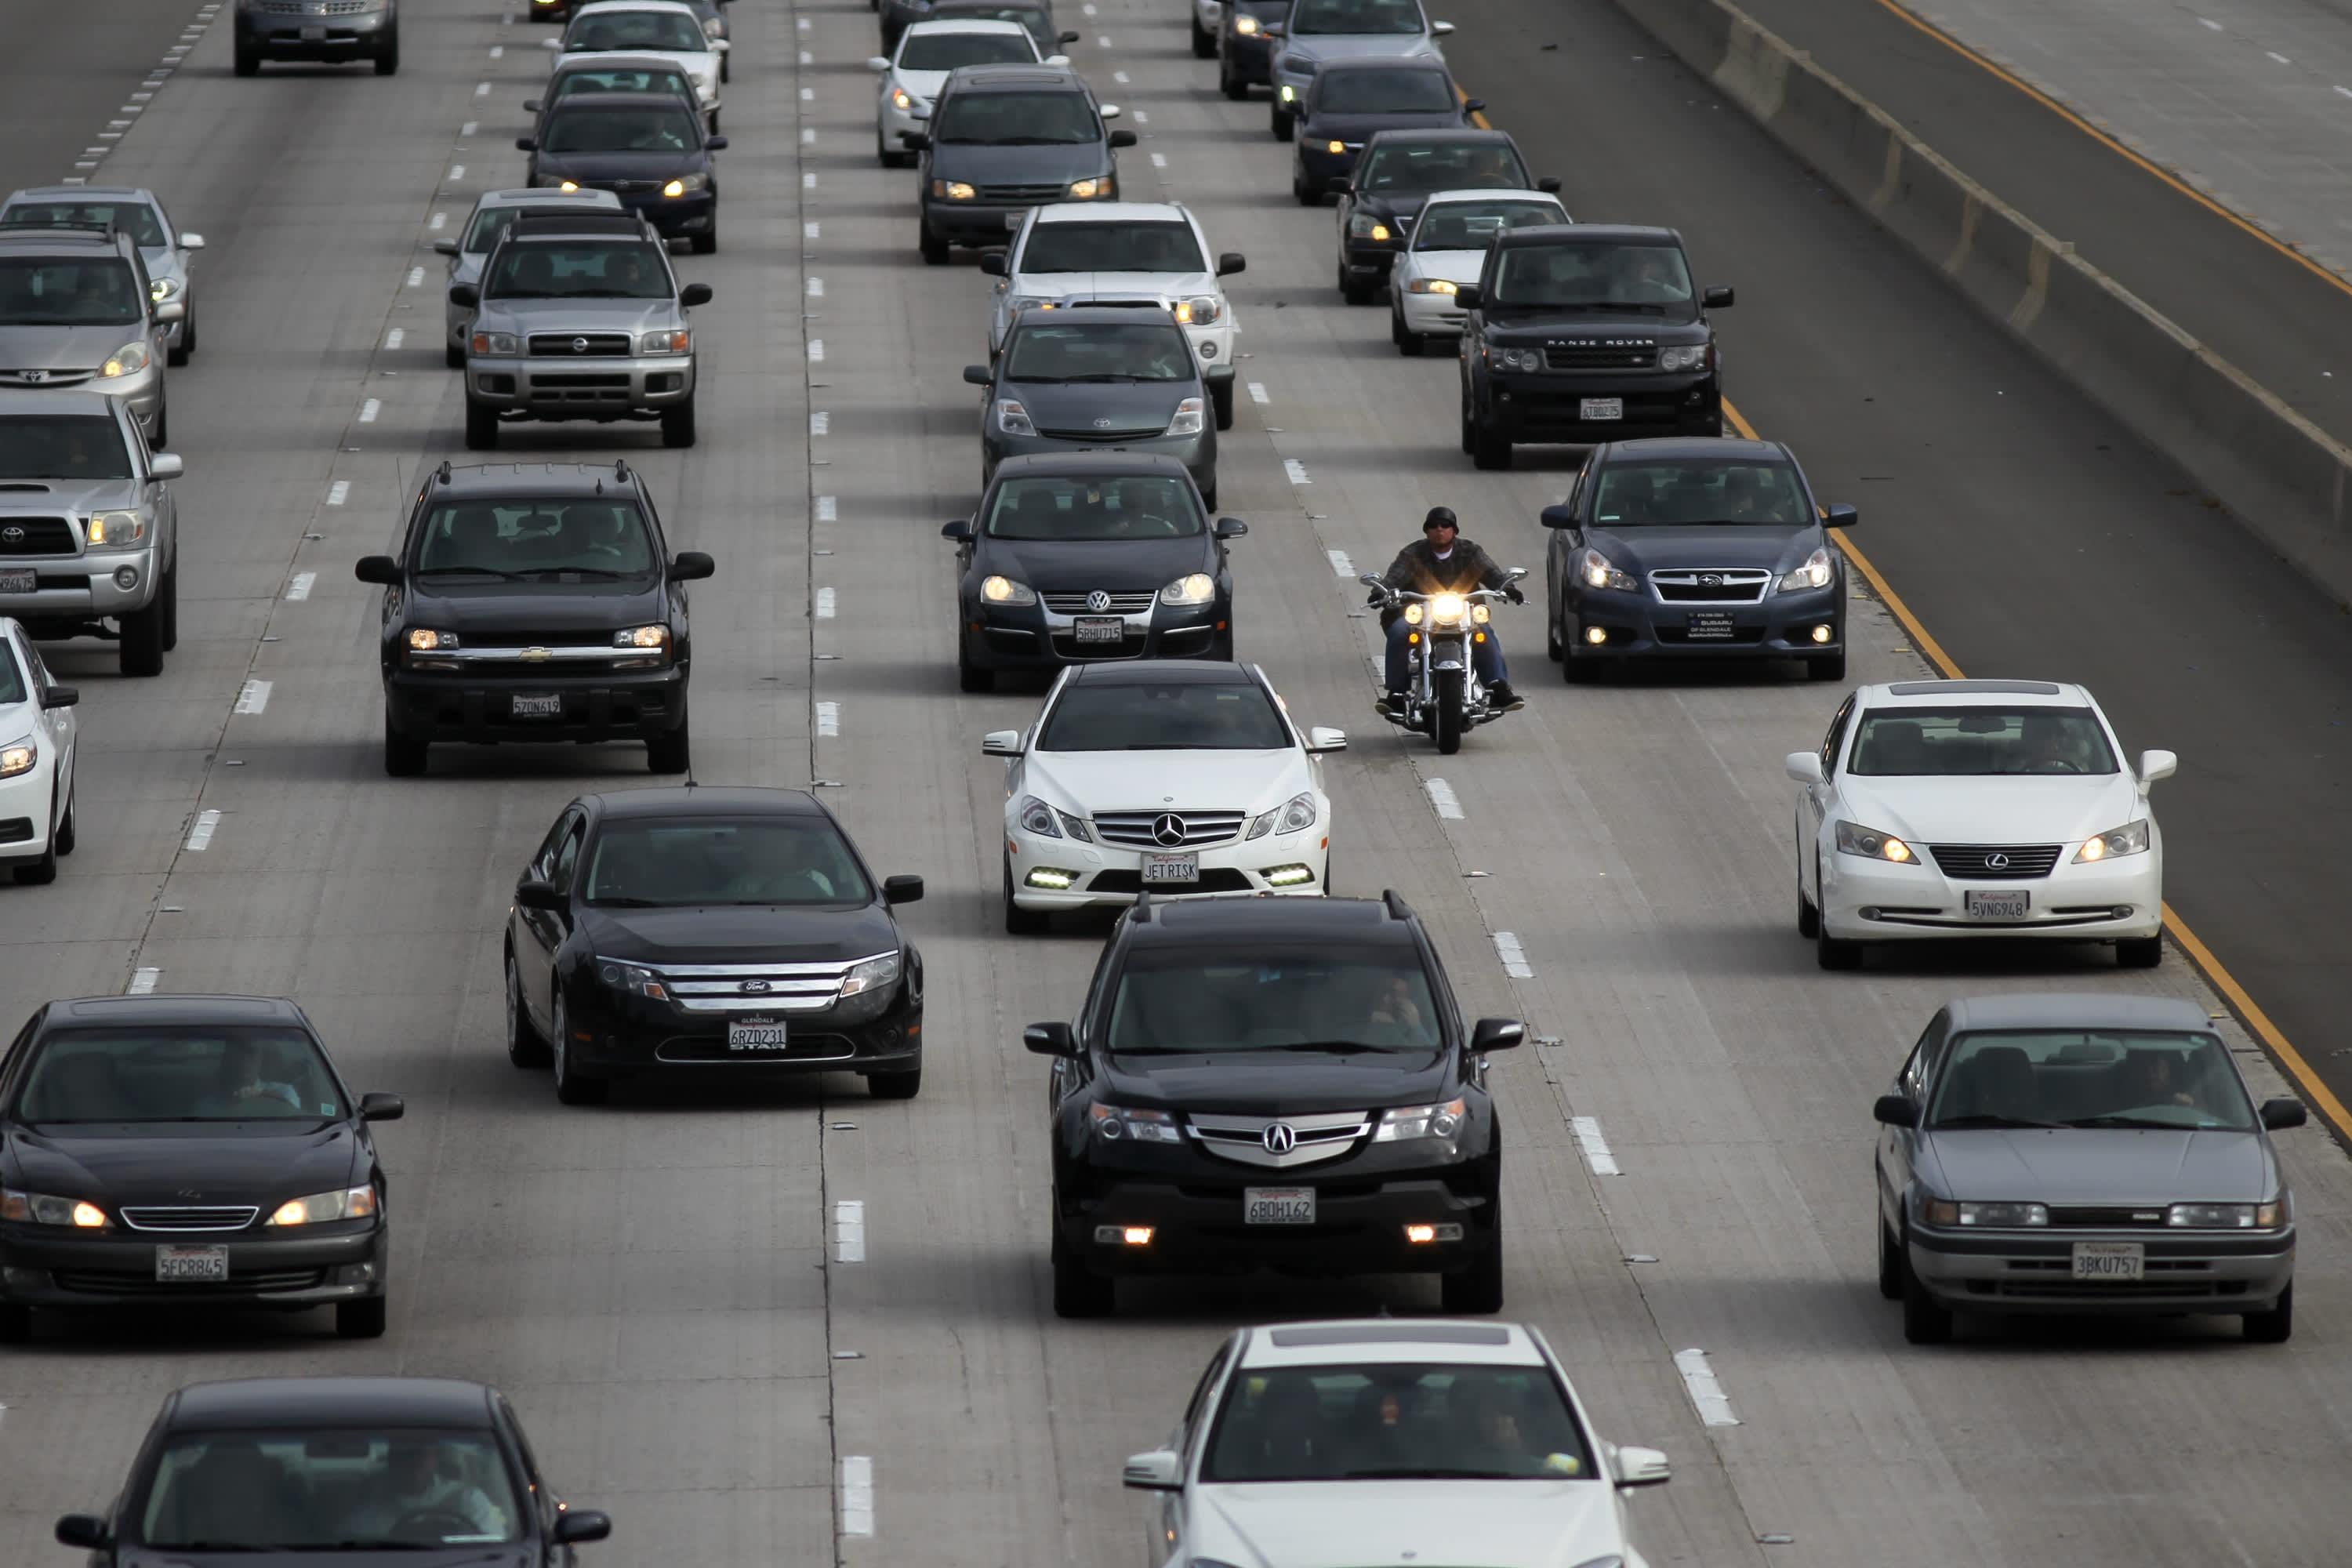LightVehicle: (1874, 990, 2303, 1351), (495, 768, 938, 1113), (1787, 677, 2179, 984), (369, 448, 707, 779), (1543, 432, 1862, 686)
MotorCycle: (1361, 574, 1529, 754)
